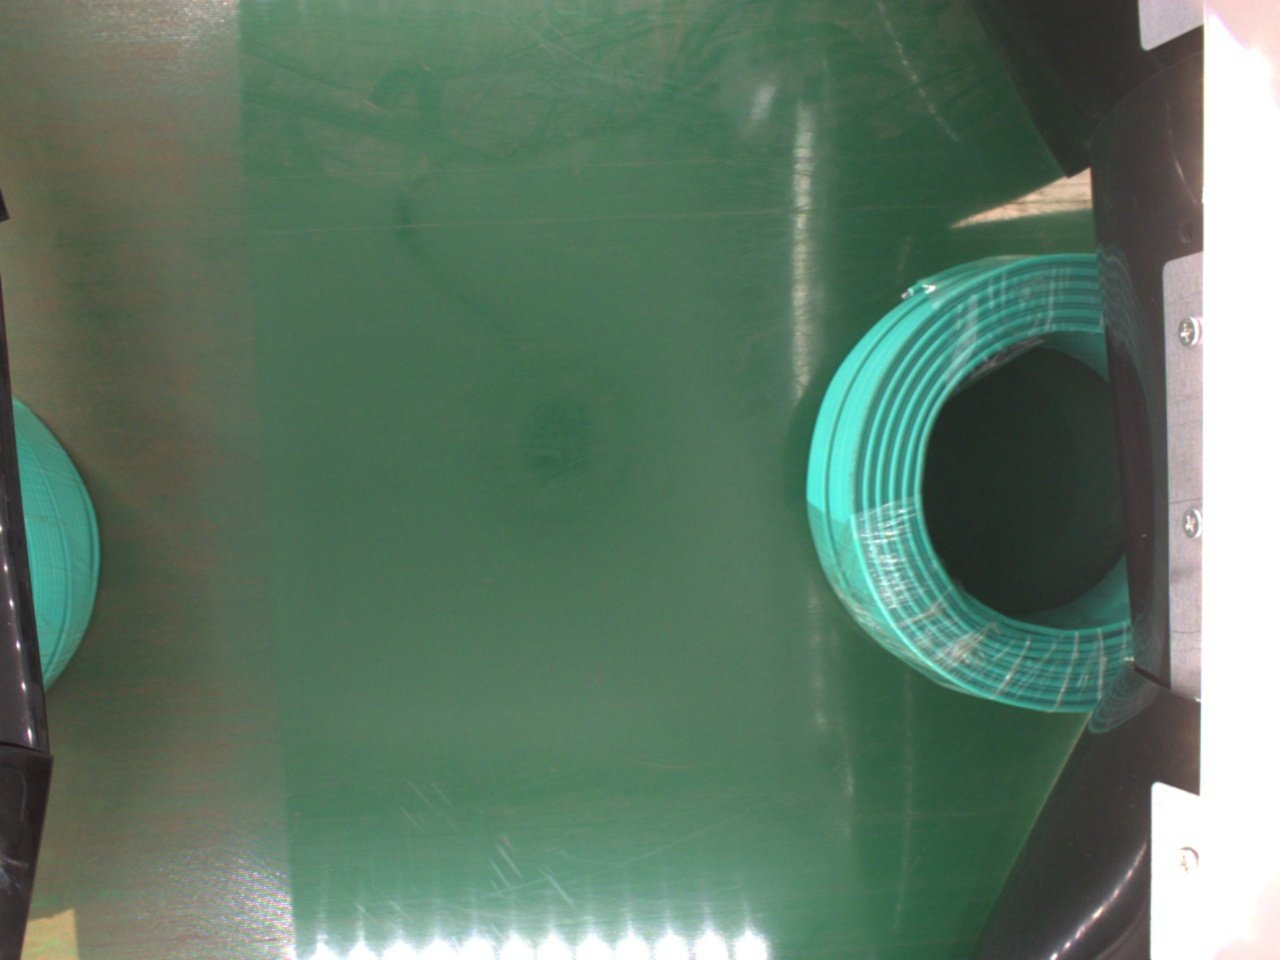green: (802, 253, 1141, 721)
